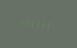nine: (22, 19, 26, 27)
one: (47, 20, 51, 28), (52, 20, 56, 28)
six: (27, 19, 31, 27)
three: (42, 20, 46, 28)
two: (17, 18, 21, 27), (37, 19, 41, 28), (32, 19, 36, 27)
